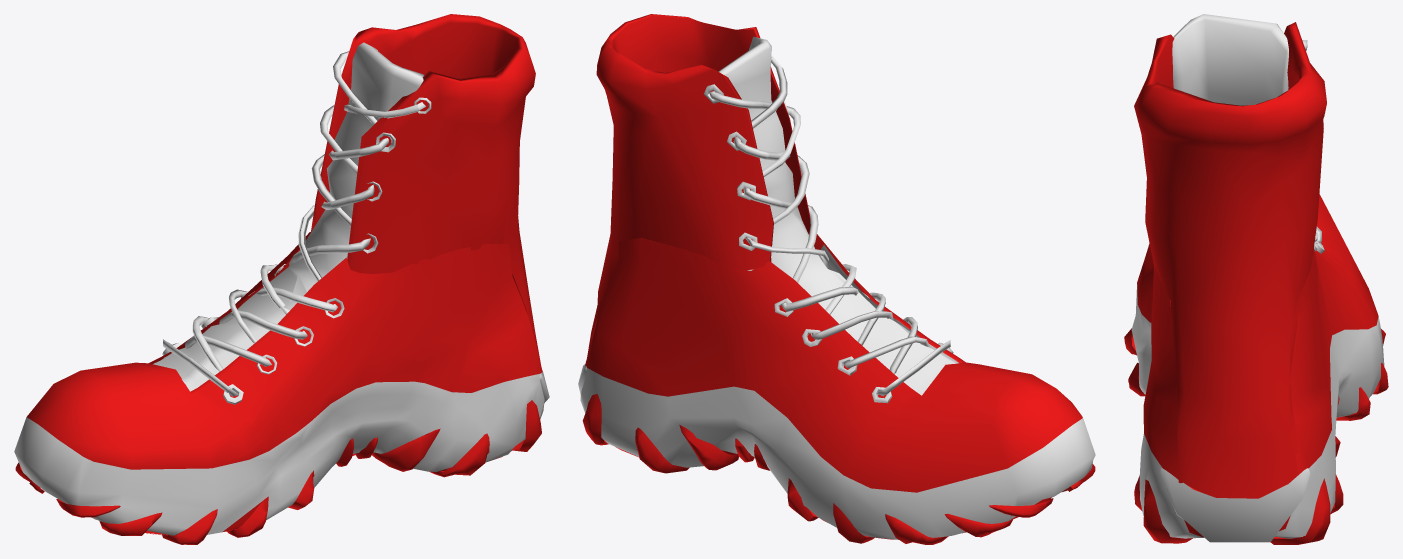
Rendered from shooes.fbx.
3 renders of one model, left to right at view 1: azimuth 30°, elevation 25°; view 2: azimuth 150°, elevation 25°; view 3: azimuth 270°, elevation 25°, orthographic. The views are drawn at different scales.
Visible parts, largest first — view 1: polySurface1; view 2: polySurface1; view 3: polySurface1.
Part boxes in pixels (x1,y1,x2,y2): polySurface1: (14, 14, 549, 544); polySurface1: (578, 14, 1095, 544); polySurface1: (1124, 14, 1388, 544).
Size of the model in its own units: 29.64 by 23.31 by 11.82.
